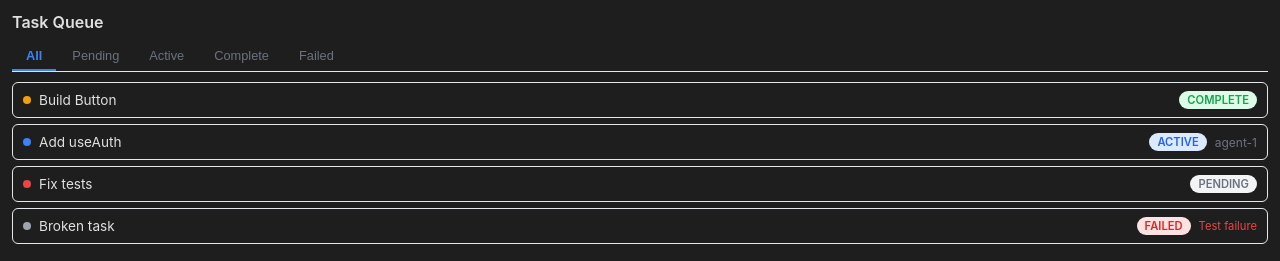
TaskQueuePanel › should filter by status tab
The width and height of the screenshot is (1280, 261).
Note: Click Pending tab (in the tablist, not status badge)
Click the tab "Pending".
click(96, 56)  # box [58,42,133,71]
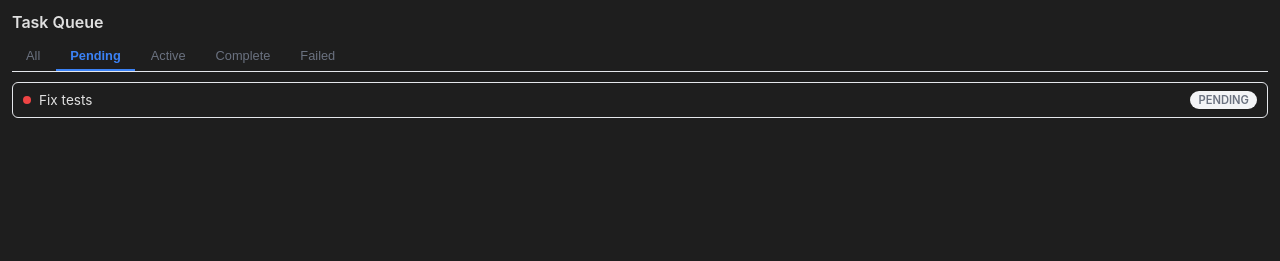
Expected: the text "Fix tests" is shown, [39,92,92,108]
Now the text "Build Button" is gone
